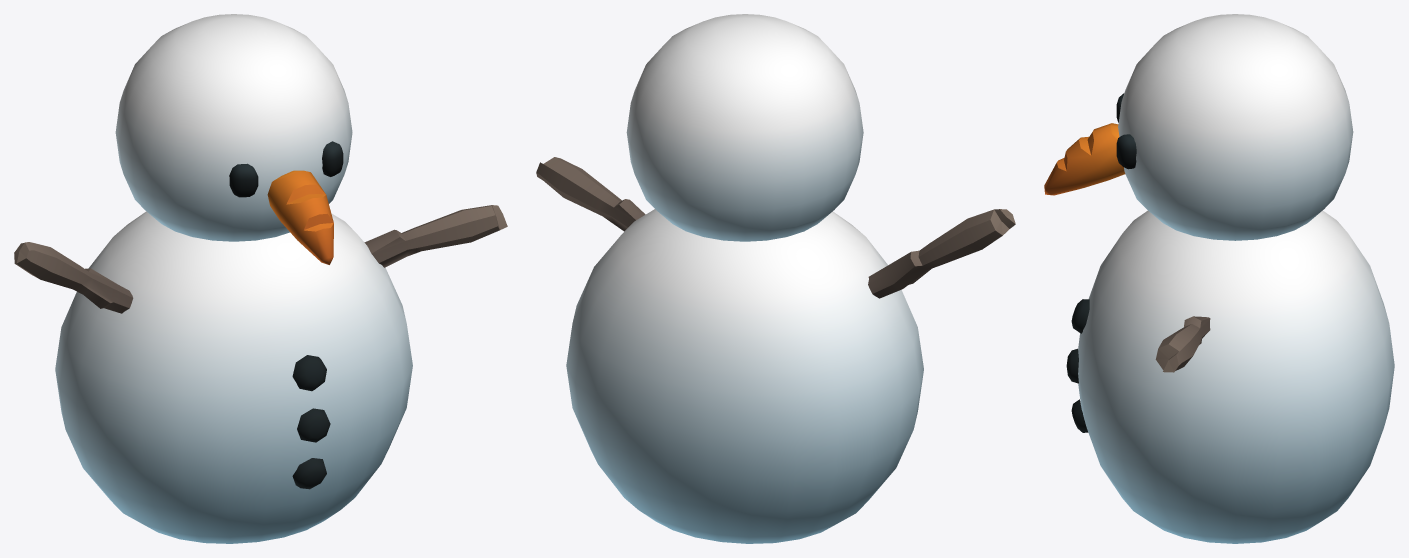
File: snowman_A.glb
3 views of the same model, side by side, from view 1: azimuth 30°, elevation 25°; view 2: azimuth 150°, elevation 25°; view 3: azimuth 270°, elevation 25° (orthographic).
Visible parts, largest first — view 1: snowman_A; view 2: snowman_A; view 3: snowman_A.
Part boxes in pixels (box(x1,y1,x2,y2)): snowman_A: box(14, 14, 507, 543); snowman_A: box(536, 14, 1015, 543); snowman_A: box(1044, 14, 1394, 543).
Bounding box in the file's own units: 2.17 × 2.05 × 1.37.
1 material, 1 textured.
